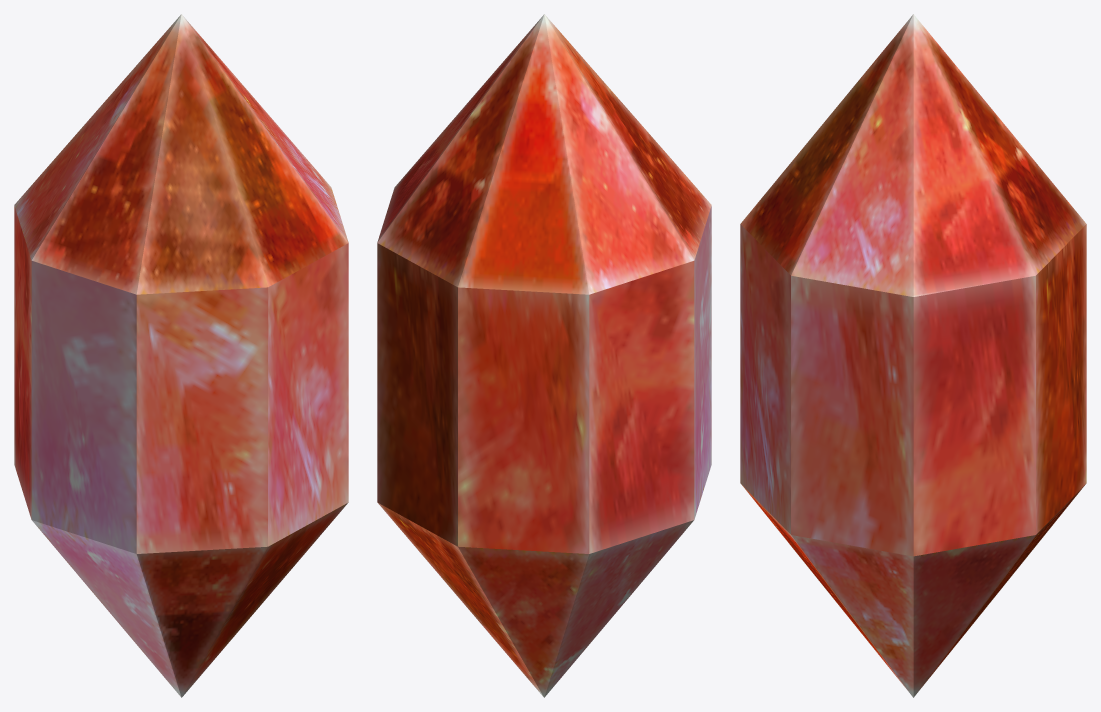
The picture shows the model from 3 angles, left to right: view 1: azimuth 30°, elevation 25°; view 2: azimuth 150°, elevation 25°; view 3: azimuth 270°, elevation 25°; orthographic projection.
Parts seen in each view (by area): view 1: ct_fa60-col; view 2: ct_fa60-col; view 3: ct_fa60-col.
Part boxes in pixels (<box>): ct_fa60-col: <box>14,14,348,697</box>; ct_fa60-col: <box>377,14,711,697</box>; ct_fa60-col: <box>740,14,1086,697</box>.
Size of the model in its own units: 0.1837 by 0.4004 by 0.1837.
Materials: 1 (1 with a texture image).
